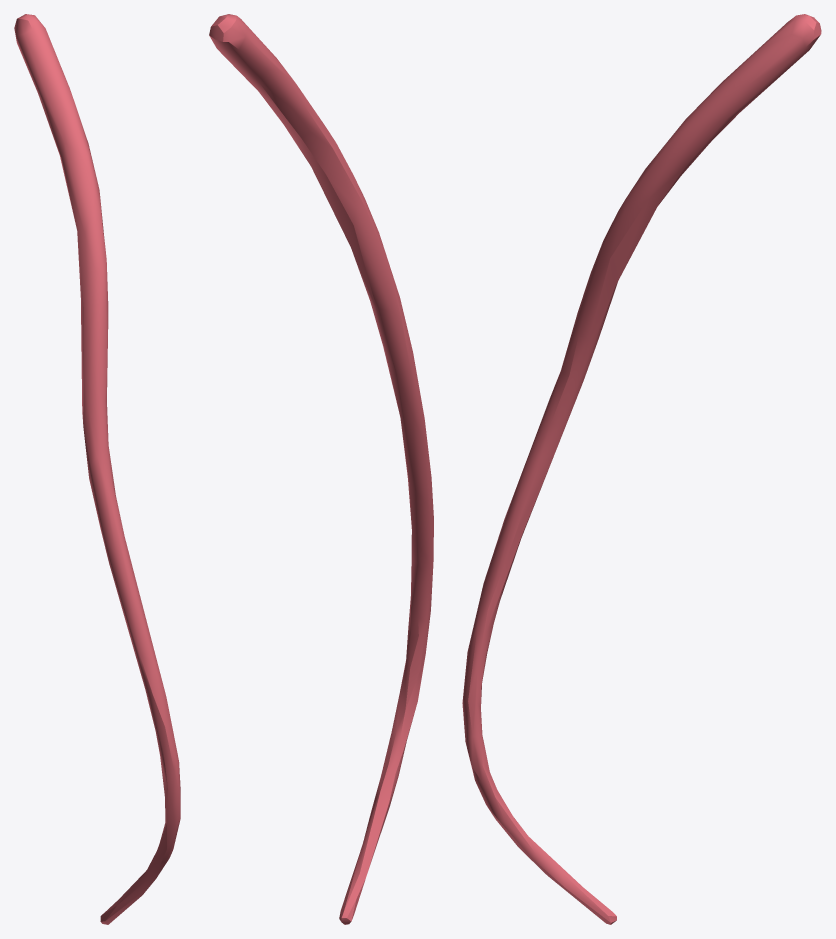
File: fma51234_fj5177.glb
3 renders of one model, left to right at view 1: azimuth 30°, elevation 25°; view 2: azimuth 150°, elevation 25°; view 3: azimuth 270°, elevation 25°, orthographic. The views are drawn at different scales.
Parts seen in each view (by area): view 1: FMA51234_FJ5177; view 2: FMA51234_FJ5177; view 3: FMA51234_FJ5177.
Boxes of the visible parts, x1,y1,x2,y2 form: FMA51234_FJ5177: (14,14,180,924); FMA51234_FJ5177: (209,14,433,924); FMA51234_FJ5177: (462,14,821,924).
Size of the model in its own units: 0.00171 by 0.0218 by 0.00776.
